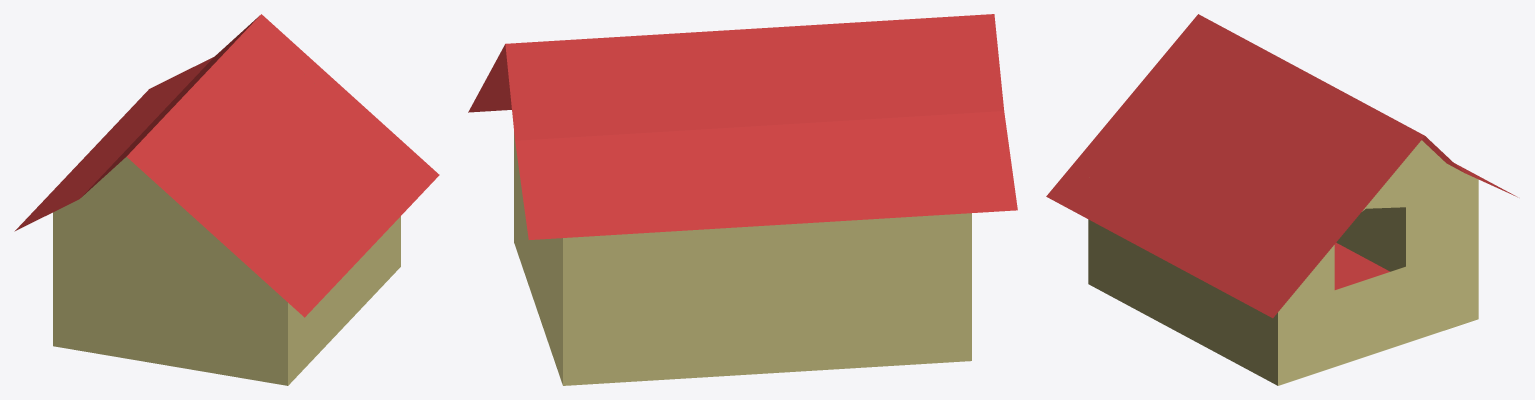
The picture shows the model from 3 angles, left to right: view 1: azimuth 30°, elevation 25°; view 2: azimuth 150°, elevation 25°; view 3: azimuth 270°, elevation 25°; orthographic projection. The views are drawn at different scales.
Size of the model in its own units: 32.22 by 31.65 by 15.98.
